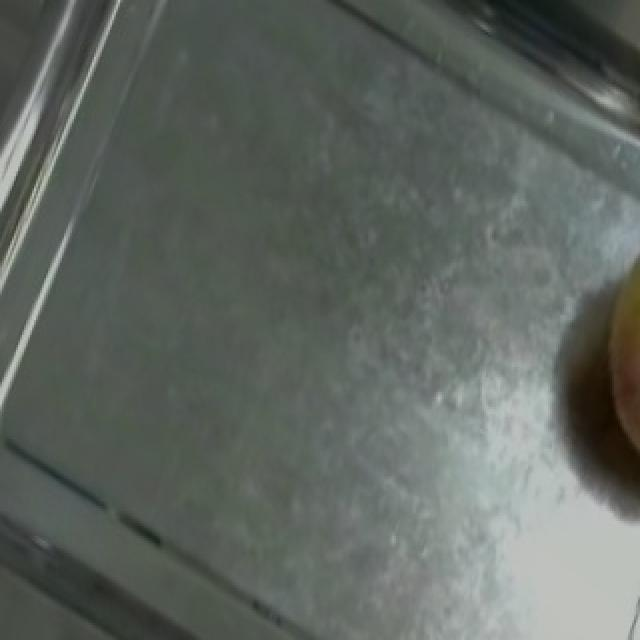Fruit: (568, 226, 640, 511)
